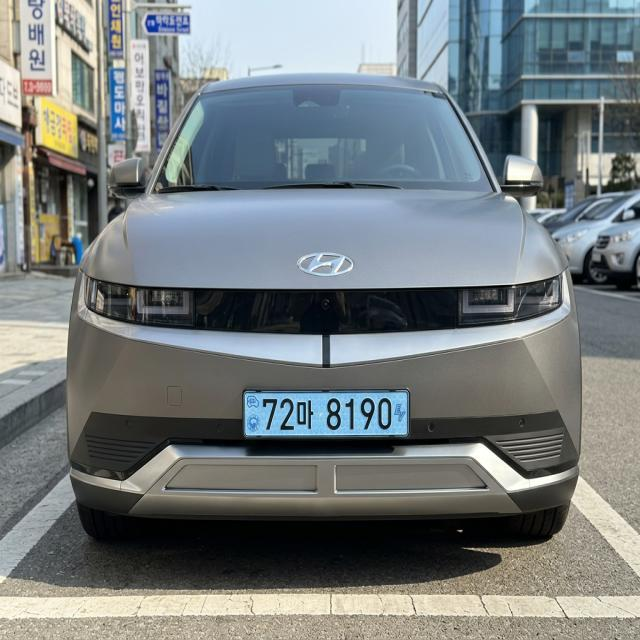car: (235, 365, 427, 460)
carev: (242, 390, 263, 441), (392, 392, 409, 438)
